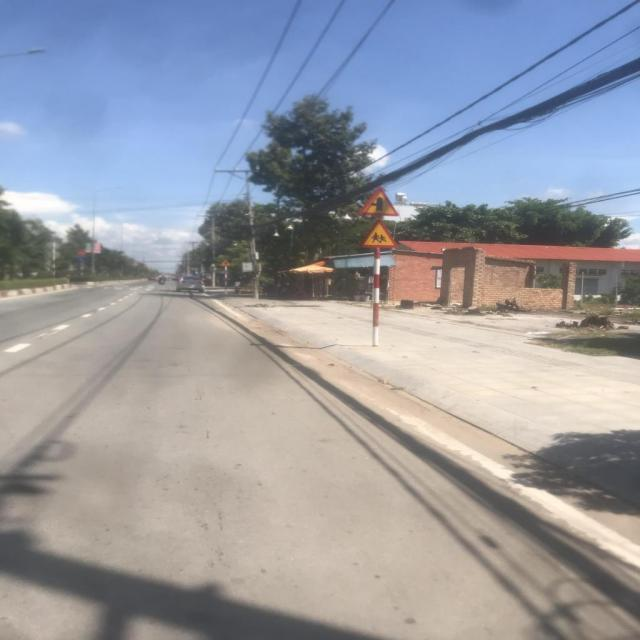cam_xe_di_nguoc_chieu: (77, 250, 86, 257)
chu_y_tre_em: (359, 219, 398, 247)
giao_nhau_voi_duong_khong_uu_tien: (358, 187, 402, 216), (220, 259, 231, 266)
huong_phai_di_vuot_chuong_ngai_vat_phai: (76, 256, 85, 263)
